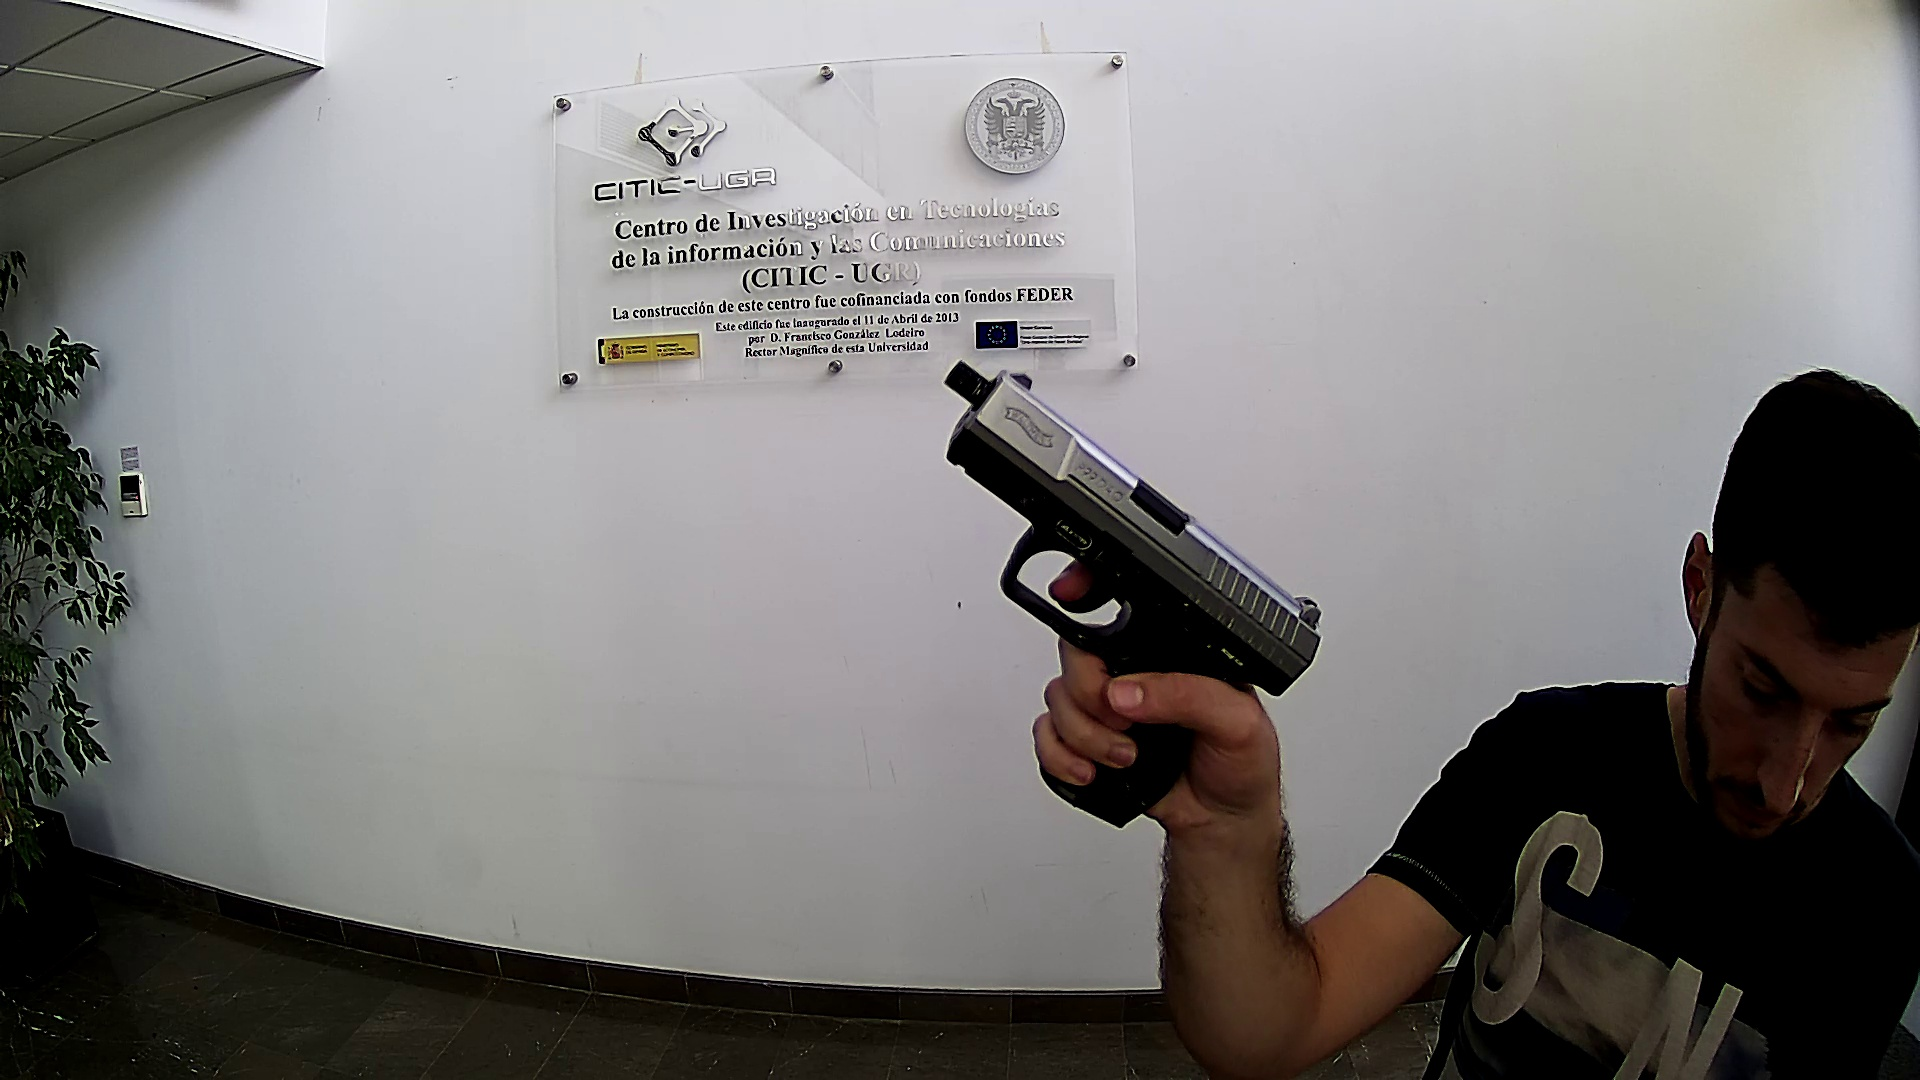pistol: (942, 357, 1328, 833)
